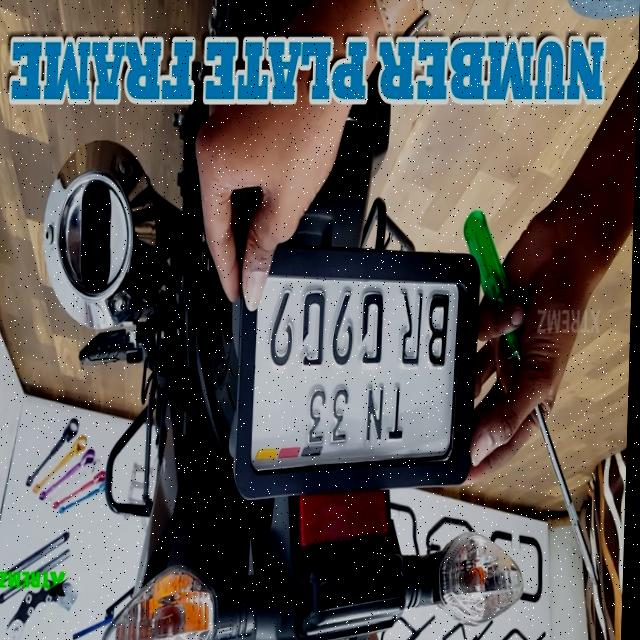plate: (234, 246, 485, 505)
